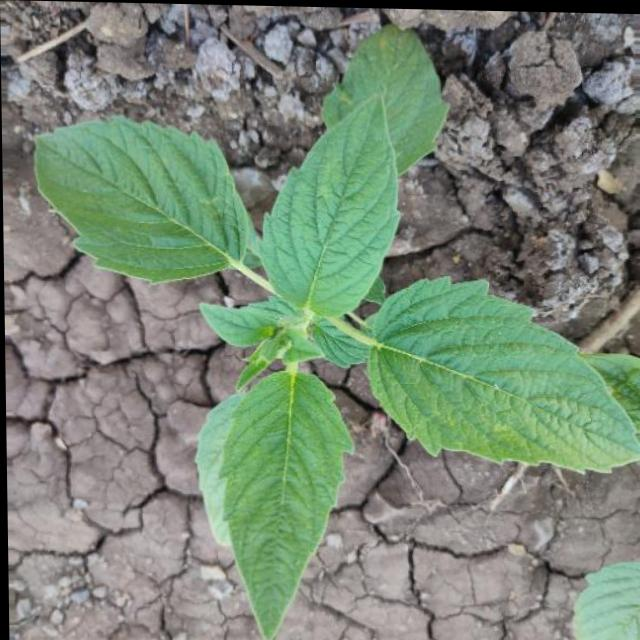crop: (17, 8, 640, 640)
